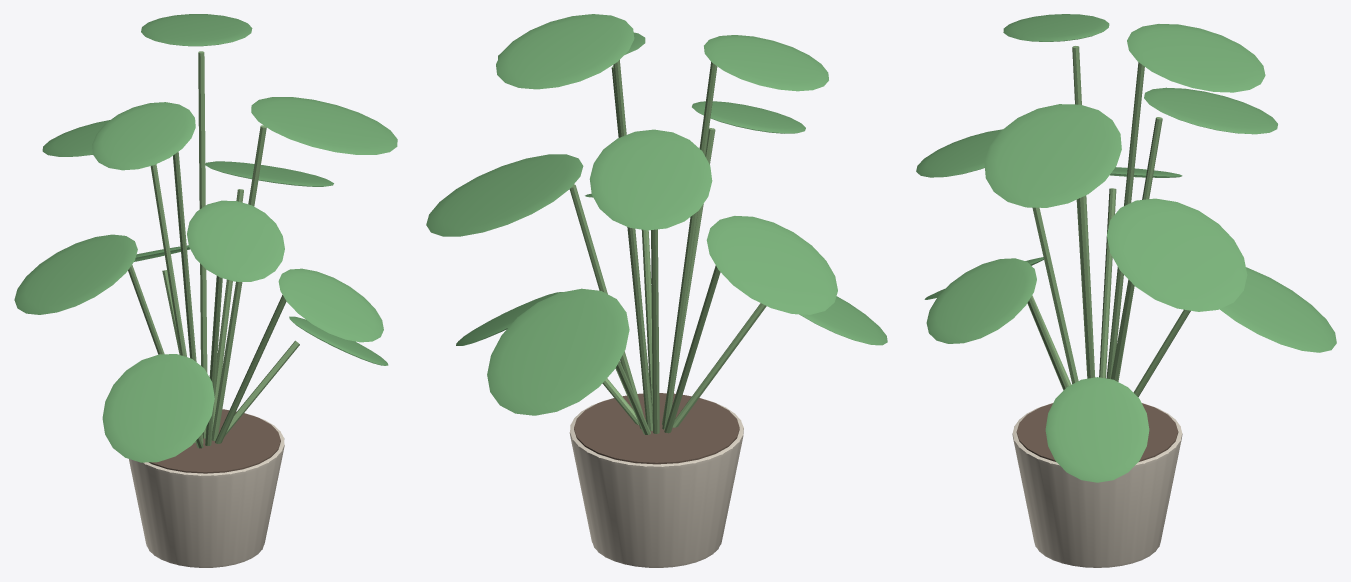
File: plant-monstera.glb
3 renders of one model, left to right at view 1: azimuth 30°, elevation 25°; view 2: azimuth 150°, elevation 25°; view 3: azimuth 270°, elevation 25°, orthographic. The views are drawn at different scales.
Visible parts, largest first — view 1: Cone, Sphere.001, Sphere.006, Sphere.004, Sphere.008, Sphere.009, Sphere.003, Cylinder, Sphere.010, Cylinder.011, Cylinder.009, Sphere.005 (+9 smaller); view 2: Cone, Sphere.002, Sphere.007, Sphere.004, Cylinder, Sphere.005, Sphere.010, Sphere.009, Cylinder.010, Cylinder.011, Sphere.006, Sphere.001 (+8 smaller); view 3: Cone, Sphere.005, Sphere.008, Sphere, Sphere.010, Sphere.003, Sphere.002, Sphere.007, Cylinder, Sphere.009, Sphere.006, Cylinder.011 (+8 smaller).
Part boxes in pixels (x1,y1,x2,y2): Cone: (129,414,284,567); Sphere.001: (102,354,214,462); Sphere.006: (187,200,284,281); Sphere.004: (14,234,137,314); Sphere.008: (251,97,397,154); Sphere.009: (92,102,195,170); Sphere.003: (278,268,383,342); Cylinder: (149,409,280,473); Sphere.010: (141,14,252,46); Cylinder.011: (198,51,207,438); Cylinder.009: (211,125,266,440); Sphere.005: (205,161,333,186); Cone: (569,398,743,567); Sphere.002: (487,288,629,415); Sphere.007: (589,129,712,230); Sphere.004: (706,216,837,314); Cylinder: (574,393,739,464); Sphere.005: (426,154,583,236); Sphere.010: (496,14,634,89); Sphere.009: (704,35,828,91); Cylinder.010: (662,62,717,429); Cylinder.011: (613,60,652,431); Sphere.006: (692,101,805,133); Sphere.001: (799,296,887,345); Cone: (1012,403,1182,567); Sphere.005: (1107,198,1247,311); Sphere.008: (984,104,1121,207); Sphere: (1045,377,1149,482); Sphere.010: (1127,24,1265,92); Sphere.003: (926,258,1036,343); Sphere.002: (1220,267,1336,352); Sphere.007: (1144,87,1277,134); Cylinder: (1016,403,1178,461); Sphere.009: (1003,14,1109,41); Sphere.006: (916,129,1002,177); Cylinder.011: (1106,62,1144,379).
Size of the model in its own units: 1.36 by 1.8 by 1.33.
